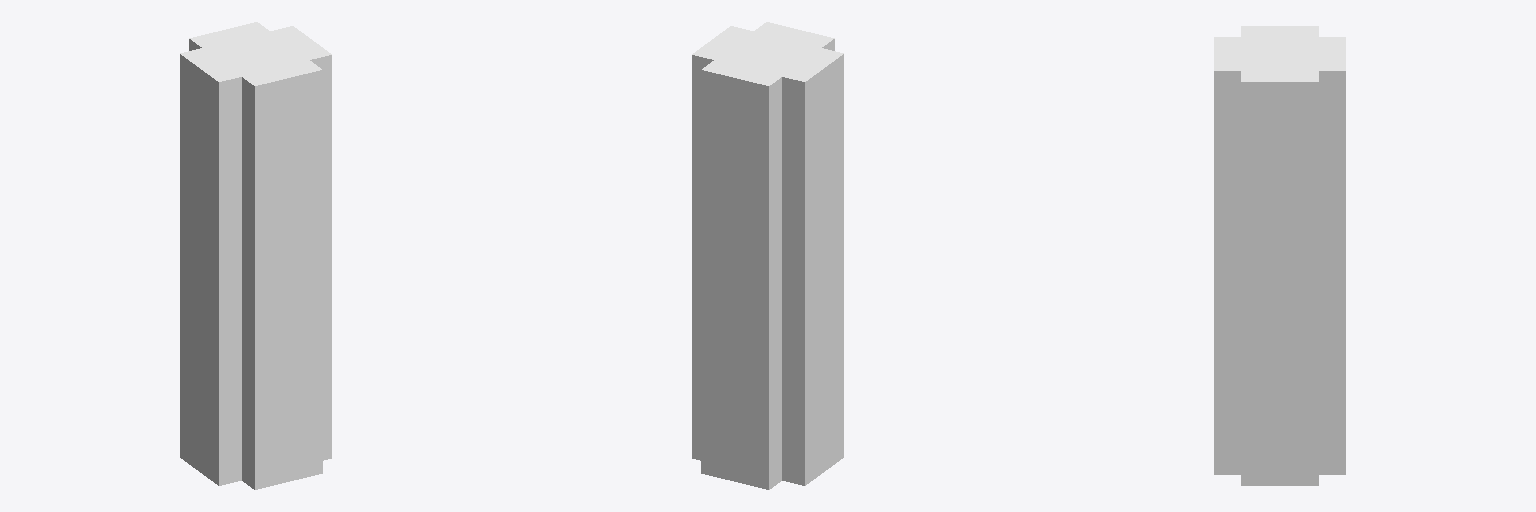
Rendered from human0_arm1.obj.
3 views of the same model, side by side, from view 1: azimuth 30°, elevation 25°; view 2: azimuth 150°, elevation 25°; view 3: azimuth 270°, elevation 25° (orthographic).
Visible parts, largest first — view 1: human0_arm1; view 2: human0_arm1; view 3: human0_arm1.
Boxes of the visible parts, box(x1,y1,x2,y2) form: human0_arm1: box(180, 22, 331, 489); human0_arm1: box(692, 22, 843, 489); human0_arm1: box(1214, 26, 1345, 485).
Bounding box in the file's own units: 5 × 17 × 5.